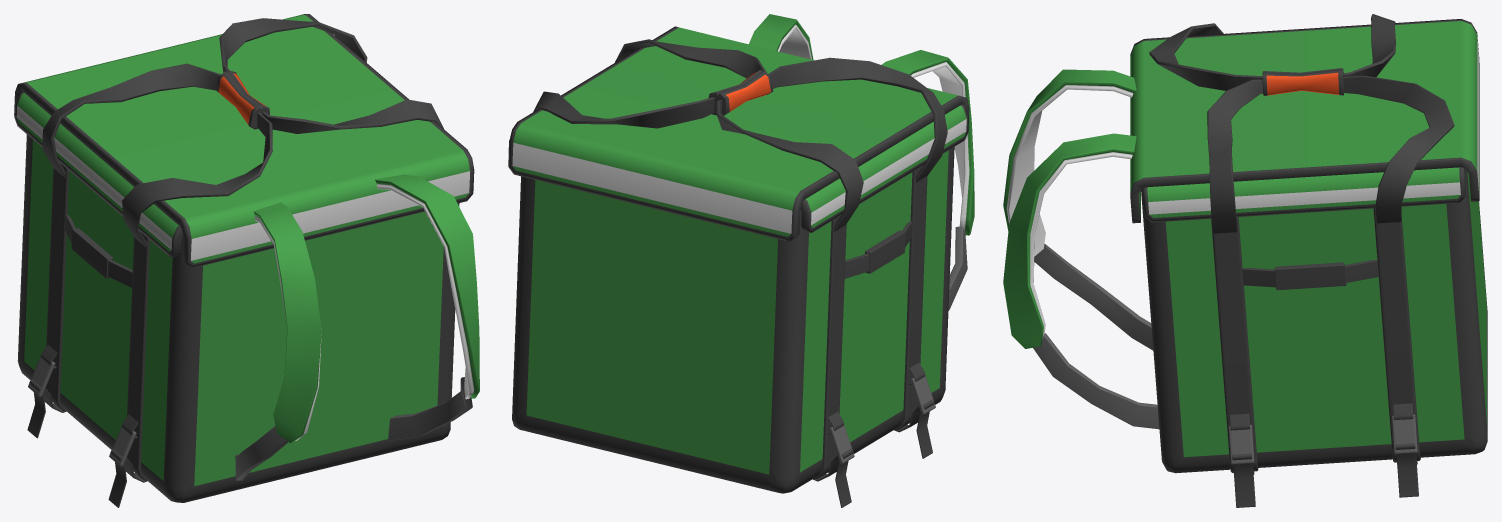
Rendered from Backpack_015.glb.
3 renders of one model, left to right at view 1: azimuth 30°, elevation 25°; view 2: azimuth 150°, elevation 25°; view 3: azimuth 270°, elevation 25°, orthographic.
Visible parts, largest first — view 1: Backpack_015; view 2: Backpack_015; view 3: Backpack_015.
Part boxes in pixels (left/top/right/bottom): Backpack_015: left=14, top=14, right=479, bottom=507; Backpack_015: left=508, top=14, right=974, bottom=507; Backpack_015: left=1003, top=14, right=1487, bottom=507.
Size of the model in its own units: 0.7538 by 0.8067 by 0.9786.
Materials: 1 (1 with a texture image).
